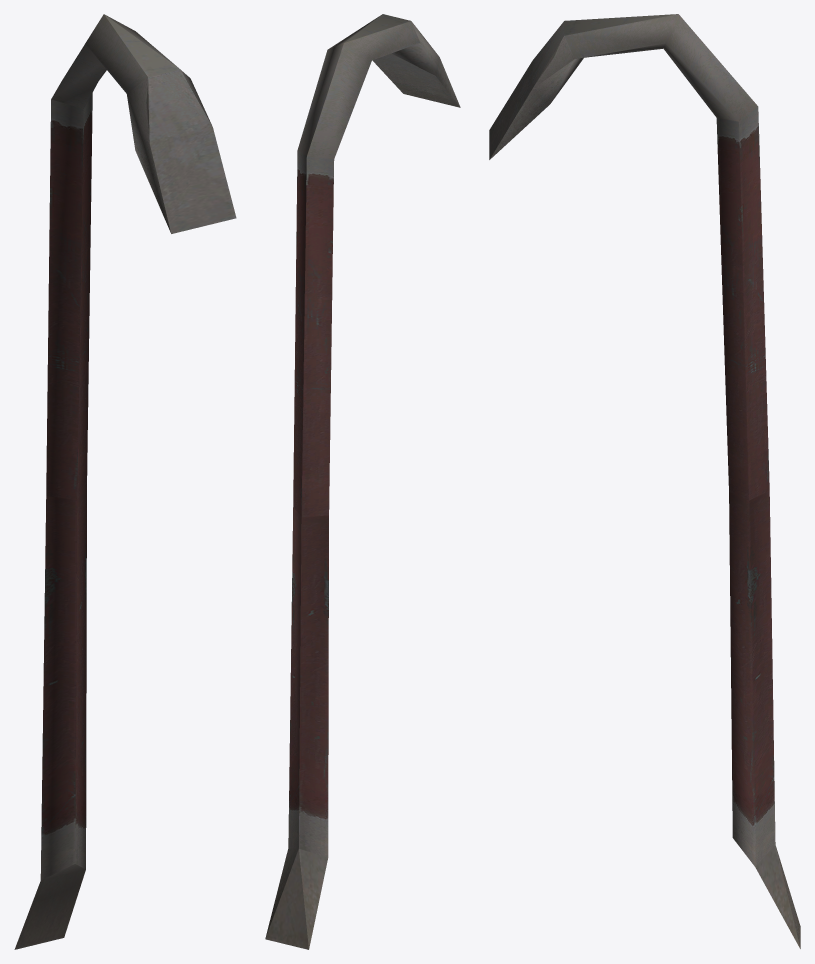
The model's file is Melee_Prop_qg_lod1_LOD_(000847).glb.
The picture shows the model from 3 angles, left to right: view 1: azimuth 30°, elevation 25°; view 2: azimuth 150°, elevation 25°; view 3: azimuth 270°, elevation 25°; orthographic projection. The views are drawn at different scales.
Visible parts, largest first — view 1: qg_lod1; view 2: qg_lod1; view 3: qg_lod1.
Part boxes in pixels (<box>): qg_lod1: <box>14,14,236,949</box>; qg_lod1: <box>265,14,460,949</box>; qg_lod1: <box>489,14,800,948</box>.
Bounding box in the file's own units: 0.0702 × 0.9153 × 0.2795.
1 material, 1 textured.
